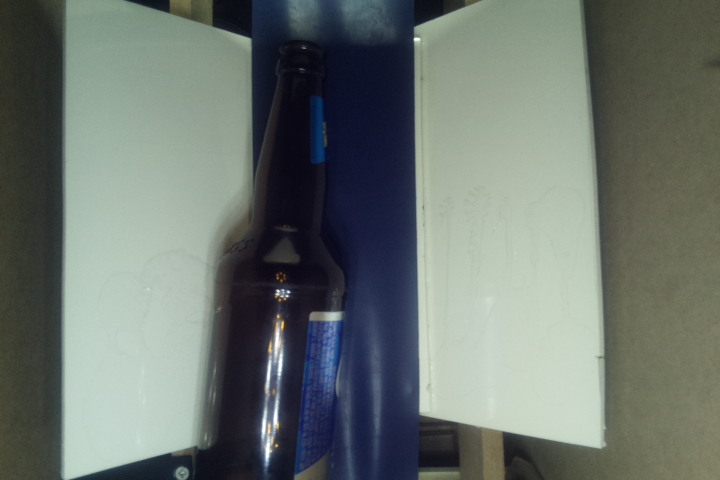makju: (196, 42, 352, 480)
